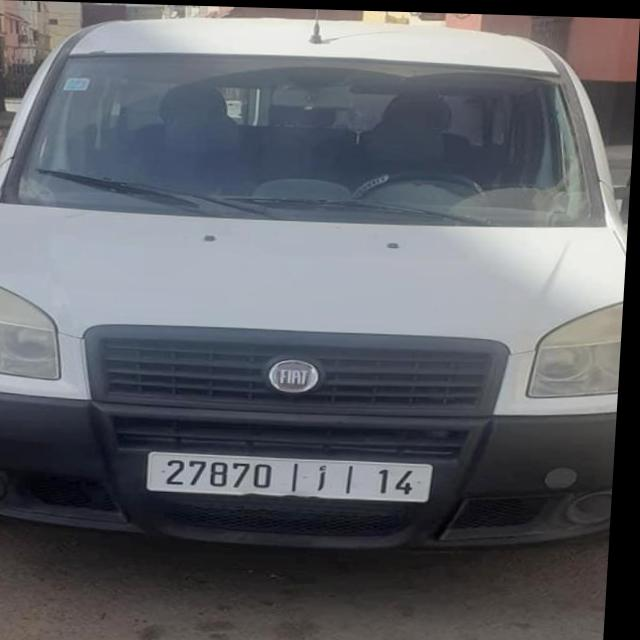License-Plate: (152, 450, 438, 499)
